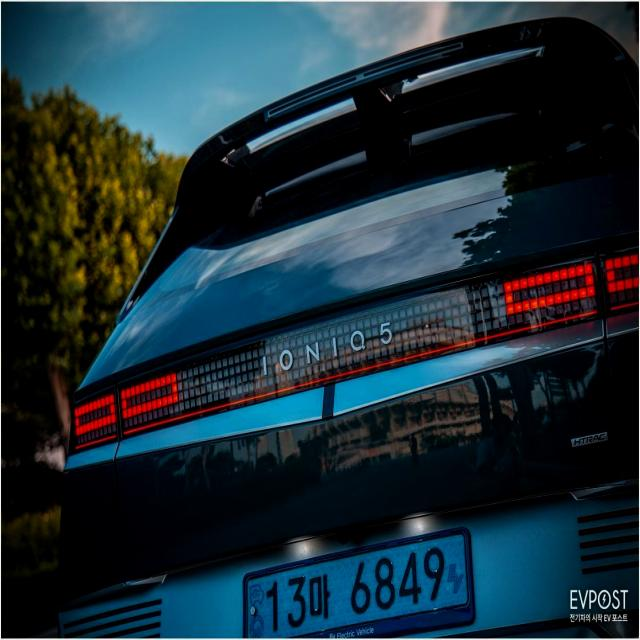EV_plate: (240, 533, 480, 638)
car: (61, 13, 640, 640)
